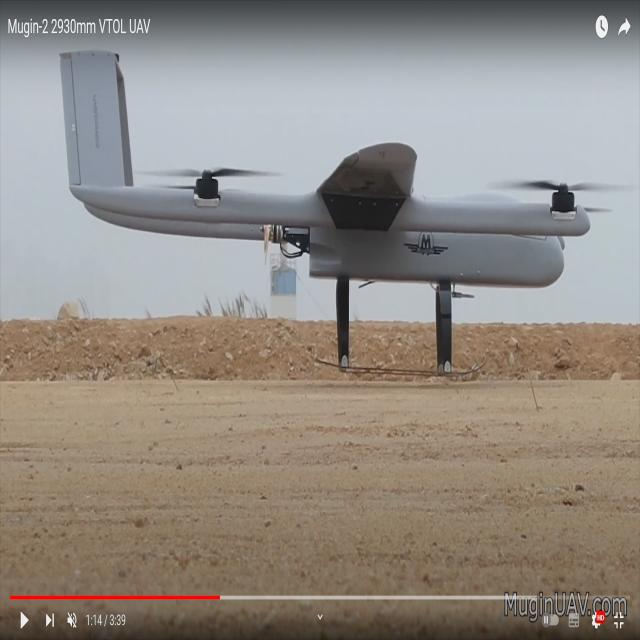iha: (59, 55, 593, 363)
